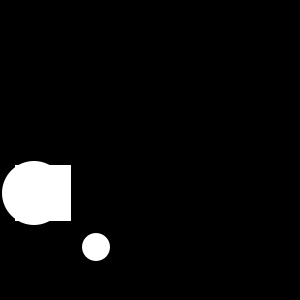circle: (15, 165, 71, 221)
rectangle: (2, 161, 66, 225), (82, 233, 110, 261)
